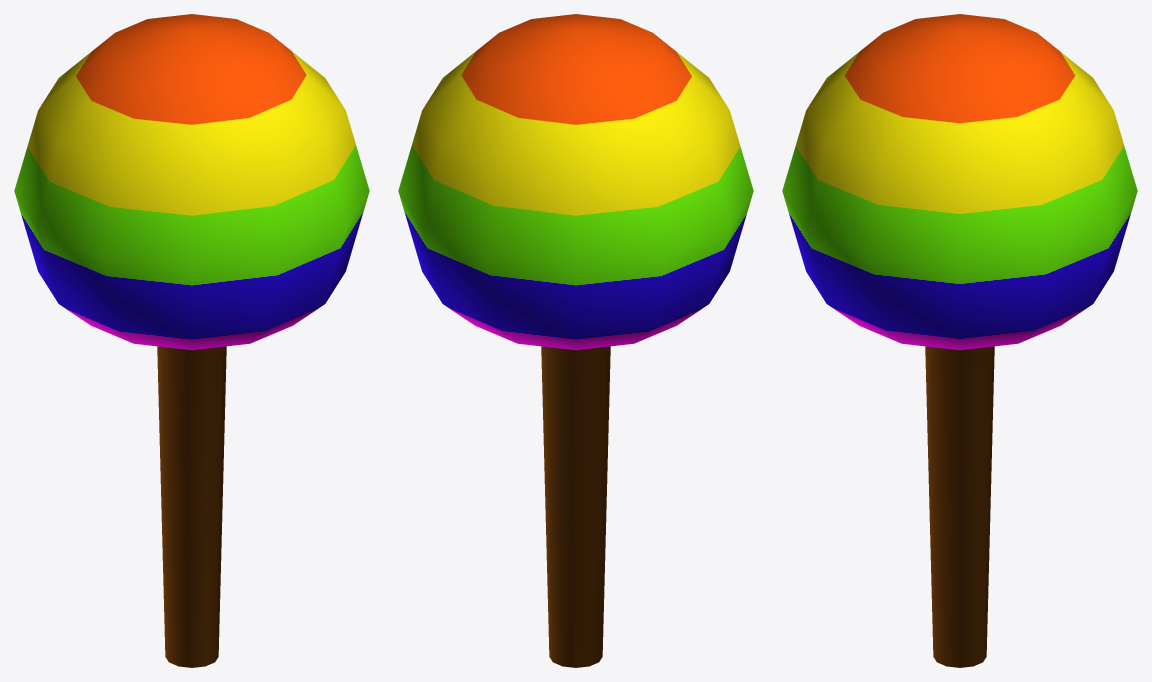
Rendered from 棒棒糖樹一版.fbx.
The picture shows the model from 3 angles, left to right: view 1: azimuth 30°, elevation 25°; view 2: azimuth 150°, elevation 25°; view 3: azimuth 270°, elevation 25°; orthographic projection.
Visible parts, largest first — view 1: 圓柱體.001; view 2: 圓柱體.001; view 3: 圓柱體.001.
Part boxes in pixels (x1=…): 圓柱體.001: x1=14, y1=14, x2=369, y2=667; 圓柱體.001: x1=398, y1=14, x2=753, y2=667; 圓柱體.001: x1=782, y1=14, x2=1137, y2=667.
Size of the model in its own units: 100 by 100 by 195.
Materials: 1 (1 with a texture image).
